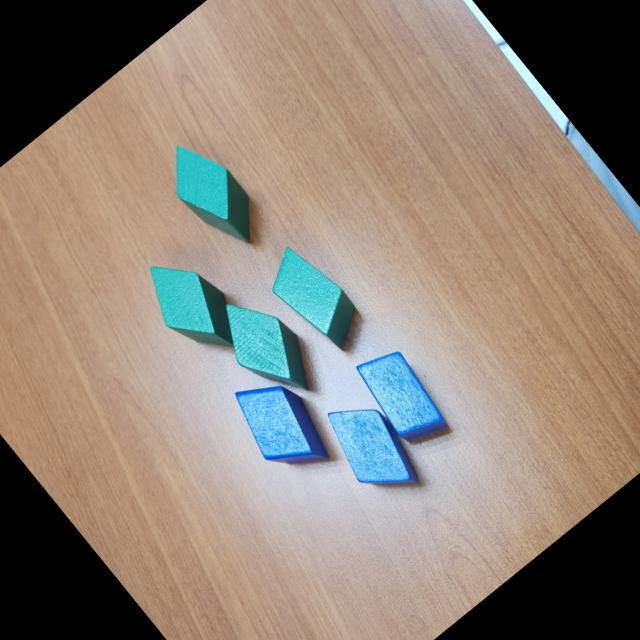blue: (222, 362, 344, 492), (313, 386, 433, 512), (348, 338, 456, 454)
green: (130, 240, 256, 372), (204, 282, 330, 414), (153, 130, 272, 258), (256, 236, 374, 361)
